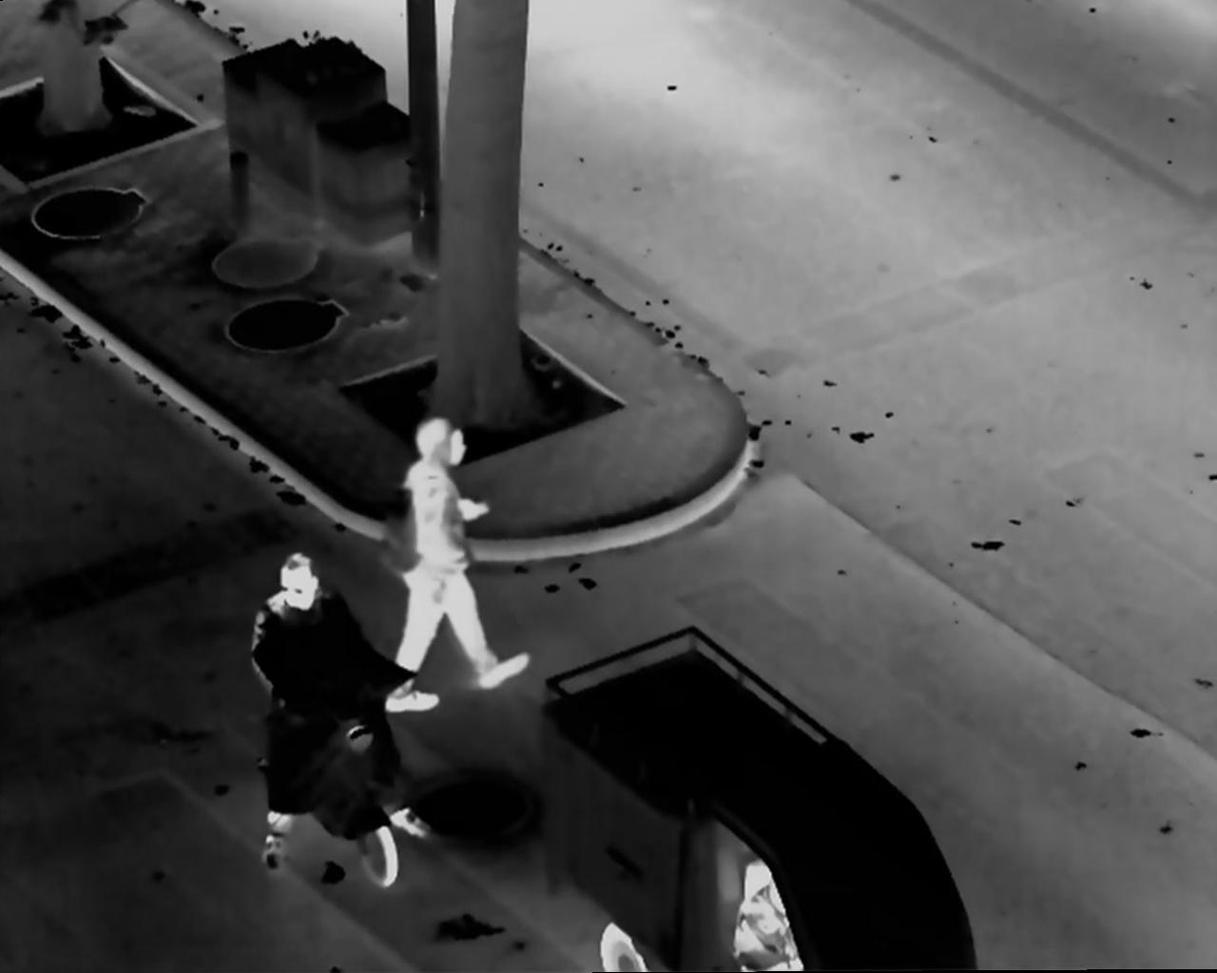person: (237, 544, 435, 859), (385, 416, 528, 715), (731, 854, 812, 973)
